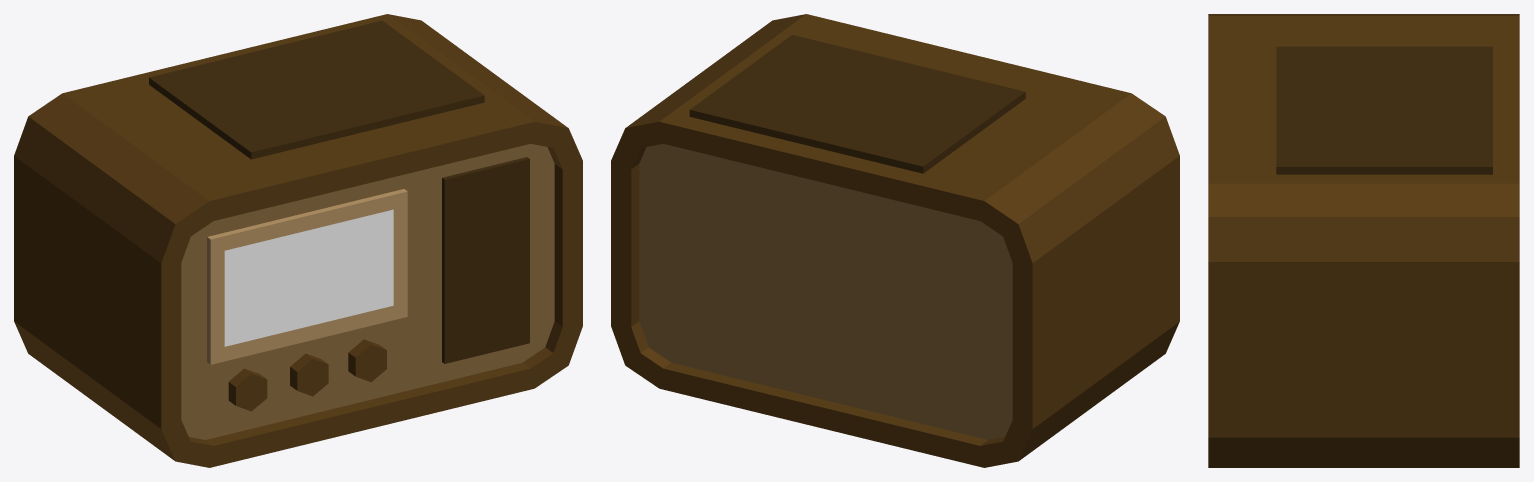
The model's file is Radio.fbx.
The picture shows the model from 3 angles, left to right: view 1: azimuth 30°, elevation 25°; view 2: azimuth 150°, elevation 25°; view 3: azimuth 270°, elevation 25°; orthographic projection. The views are drawn at different scales.
Parts seen in each view (by area): view 1: Radio; view 2: Radio; view 3: Radio.
Boxes of the visible parts, <box> form: Radio: <box>14,14,582,467</box>; Radio: <box>611,14,1179,467</box>; Radio: <box>1208,14,1519,467</box>.
Size of the model in its own units: 59.5 by 36.95 by 36.
